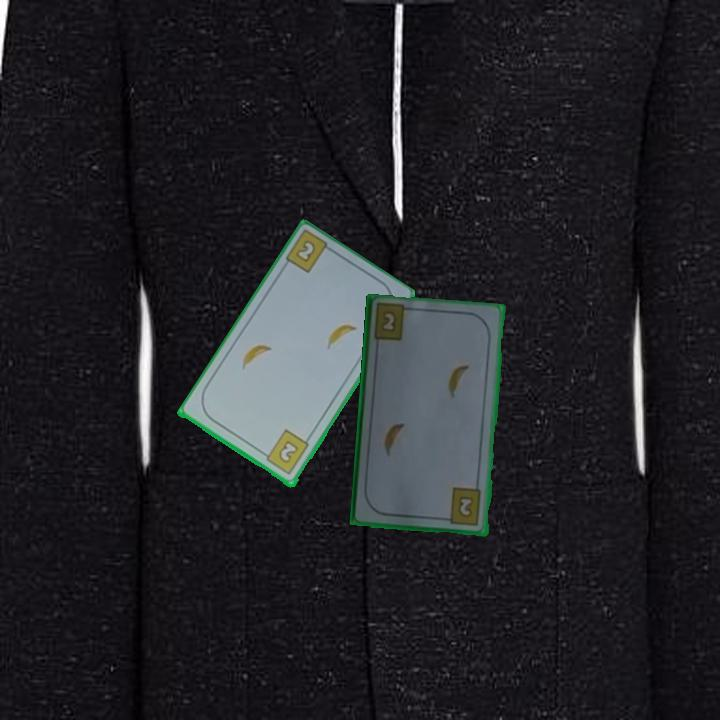2b: (258, 426, 312, 478), (441, 485, 484, 529), (292, 237, 319, 266), (377, 310, 399, 335)
